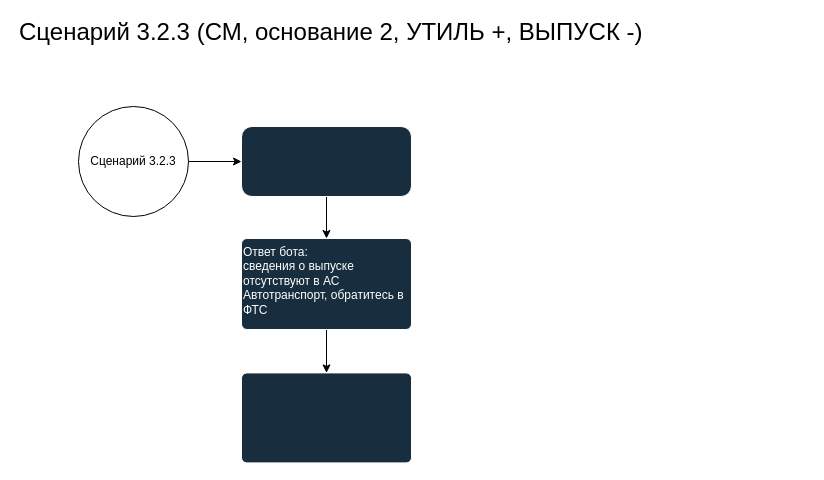
Image size: 824x480. Some labels were removed from this diagram. Here are the shapes that lost their labels. From the top down, the box of each, then its label:
(240, 126, 412, 196): Основание 02 УТИЛЬ + ВЫПУСК -
(240, 372, 412, 463): Действие бота: инициация внесения сведений об УС
